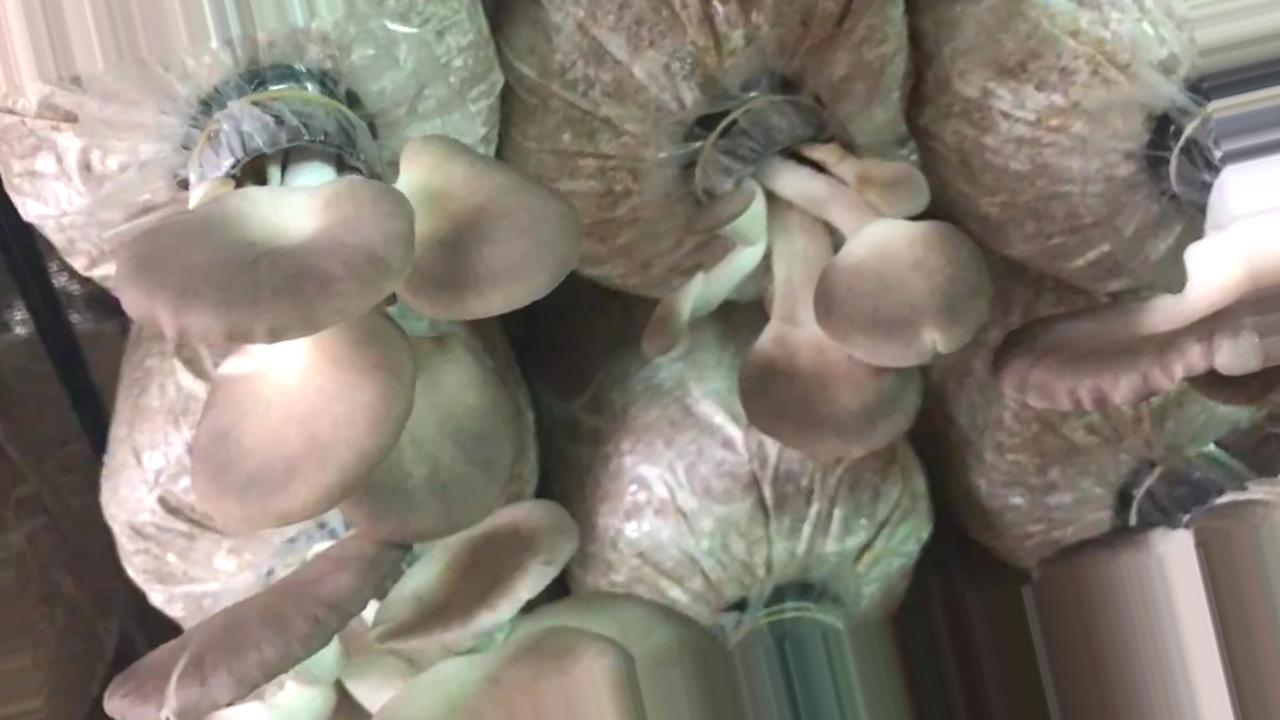nam: (123, 84, 577, 532), (112, 505, 750, 716), (646, 93, 991, 457), (1000, 96, 1280, 400), (1039, 459, 1277, 720)
